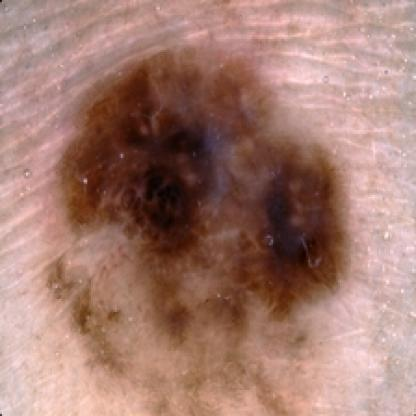Skin_Cancer-Malignant: (40, 40, 354, 416)
